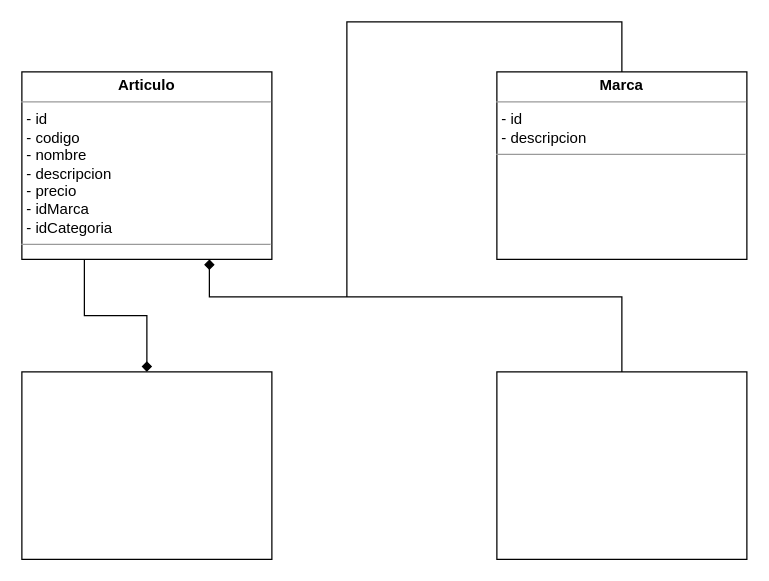
This 769x581 diagram has some shape labels left out. Here are the shapes that lost their labels. From the top down, the centre of each, then its label:
point (146, 465): Imagen - id - imagenUrl - idArticulo
point (621, 465): Categoria - id - descripcion
